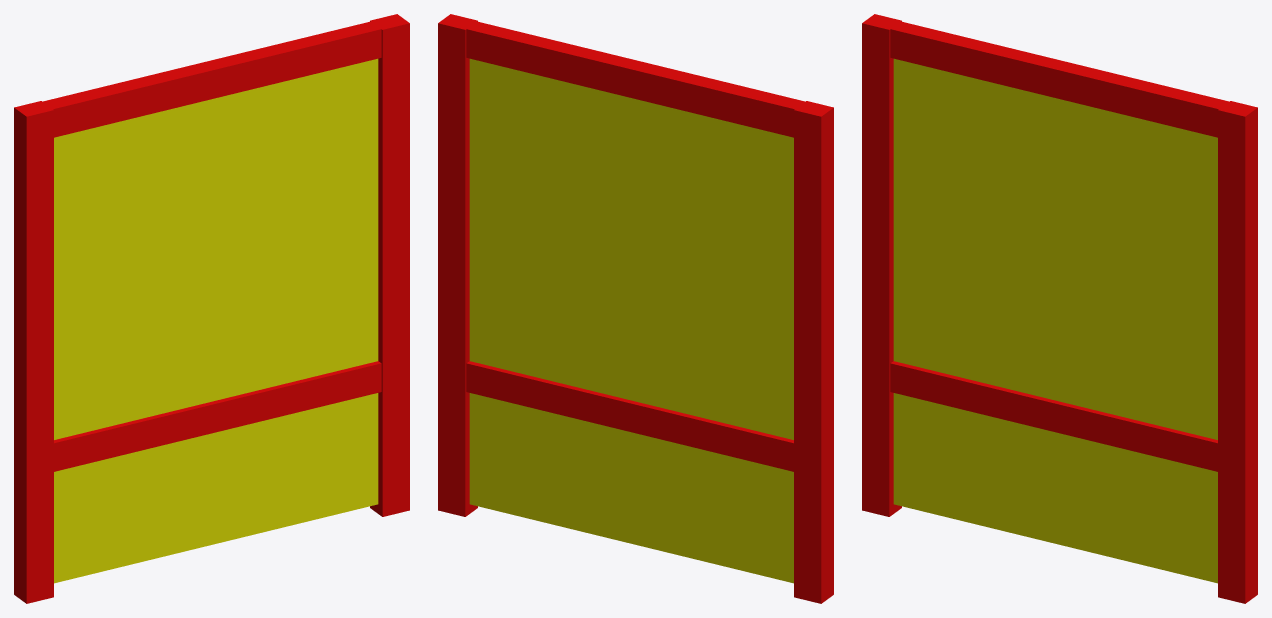
The model's file is Wall_180_v01.fbx.
The picture shows the model from 3 angles, left to right: view 1: azimuth 30°, elevation 25°; view 2: azimuth 150°, elevation 25°; view 3: azimuth 330°, elevation 25°; orthographic projection.
Visible parts, largest first — view 1: Wall_Geo, Wood_003_Geo, Wood_001_Geo, Wood_002_Geo, Wood_004_Geo; view 2: Wall_Geo, Wood_003_Geo, Wood_001_Geo, Wood_002_Geo, Wood_004_Geo; view 3: Wall_Geo, Wood_001_Geo, Wood_003_Geo, Wood_002_Geo, Wood_004_Geo.
Part boxes in pixels (x1,y1,x2,y2): Wall_Geo: (54,58,378,583); Wood_003_Geo: (14,101,53,603); Wood_001_Geo: (370,14,409,516); Wood_002_Geo: (43,21,381,137); Wood_004_Geo: (54,361,381,471); Wall_Geo: (469,58,793,583); Wood_003_Geo: (794,101,833,603); Wood_001_Geo: (438,14,477,516); Wood_002_Geo: (466,21,804,137); Wood_004_Geo: (466,361,793,471); Wall_Geo: (893,58,1217,583); Wood_001_Geo: (1218,101,1257,603); Wood_003_Geo: (862,14,901,516); Wood_002_Geo: (890,21,1228,137); Wood_004_Geo: (890,361,1217,471).
Size of the model in its own units: 2.1 by 2.55 by 0.12.
